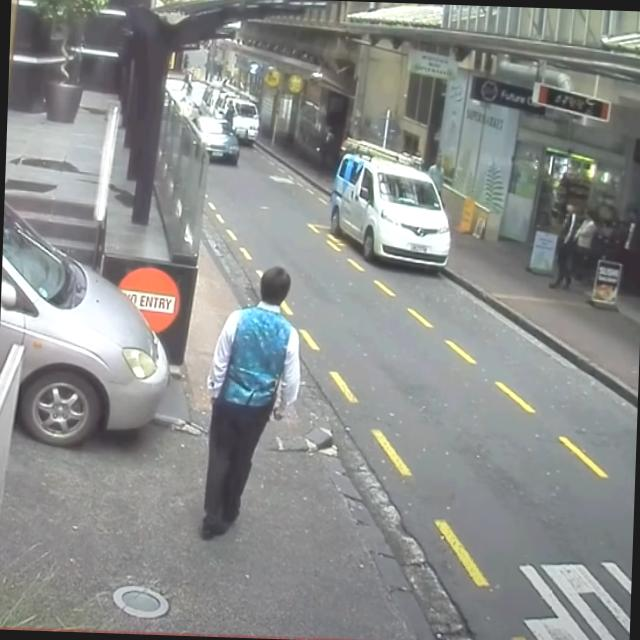person: (198, 262, 304, 540)
